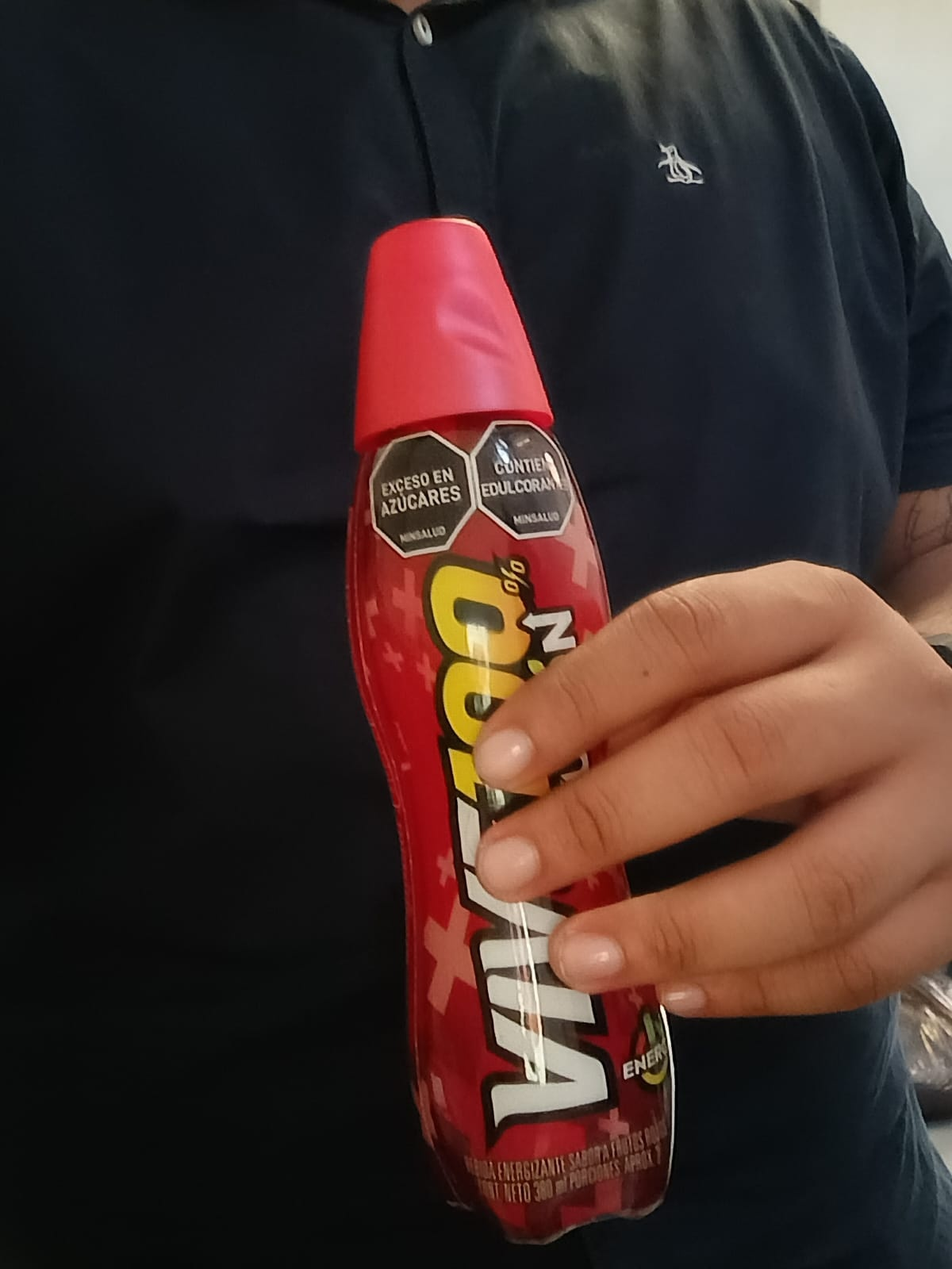Plastico: (342, 219, 676, 1248)
